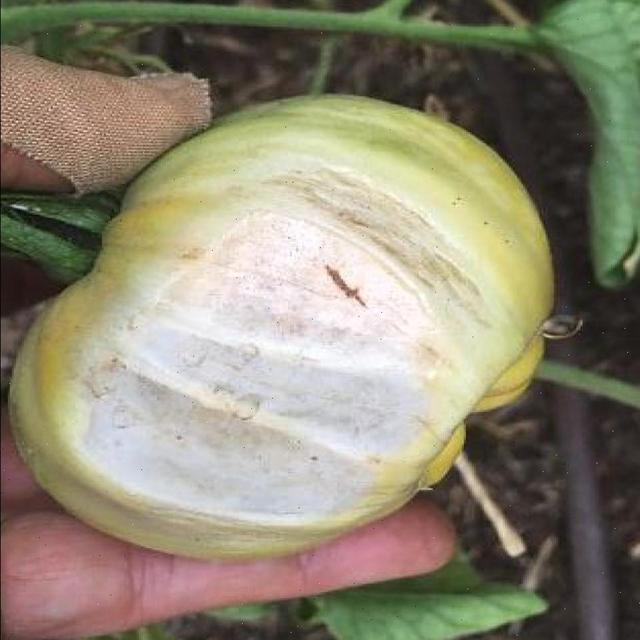Sunscald Fruit: (39, 95, 340, 344)
